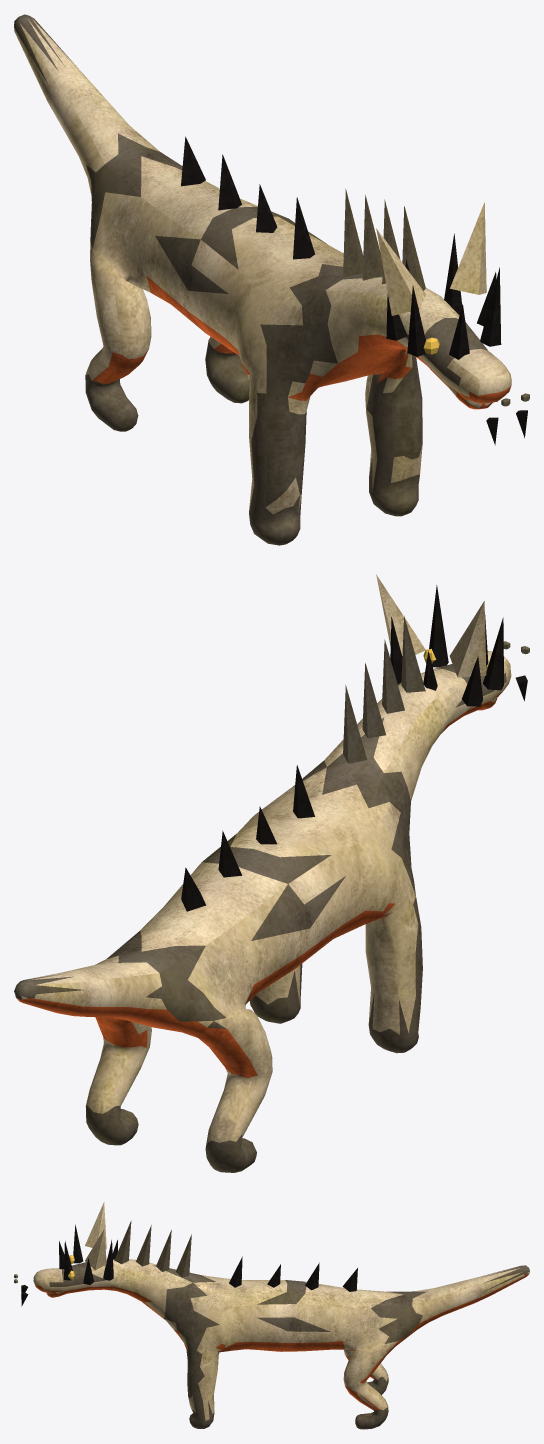
File: mon_sp_rift_fox_ember.glb
3 renders of one model, top to bottom at view 1: azimuth 30°, elevation 25°; view 2: azimuth 150°, elevation 25°; view 3: azimuth 270°, elevation 25°, orthographic. The views are drawn at different scales.
Visible parts, largest first — view 1: mon_sp_rift_fox_ember; view 2: mon_sp_rift_fox_ember; view 3: mon_sp_rift_fox_ember.
Boxes of the visible parts, bbox=[...] form: mon_sp_rift_fox_ember: bbox=[14, 14, 529, 545]; mon_sp_rift_fox_ember: bbox=[14, 574, 529, 1172]; mon_sp_rift_fox_ember: bbox=[14, 1202, 529, 1429].
Size of the model in its own units: 1.2 by 2.66 by 6.27.
5 materials, 5 textured.
